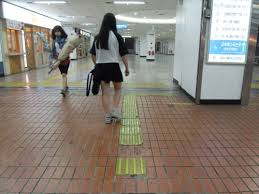guide_blocks: (122, 95, 142, 144)
